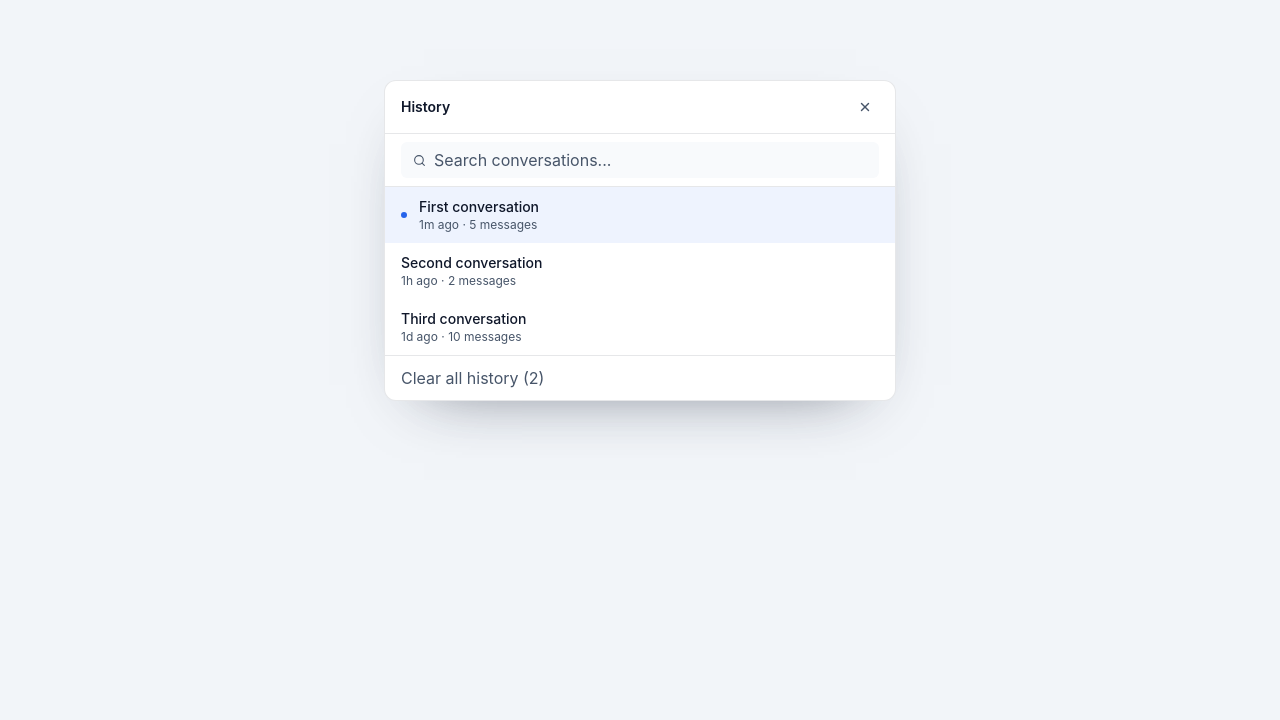
ConversationHistoryModal › shows empty state when search has no matches
This screenshot has width=1280, height=720.
Expected: the text "First conversation" is shown, [419,198,539,215]
Type "xyz-no-match" into the field with placeholder "Search conversations..." at {"x": 650, "y": 160}, box [434,148,867,172]
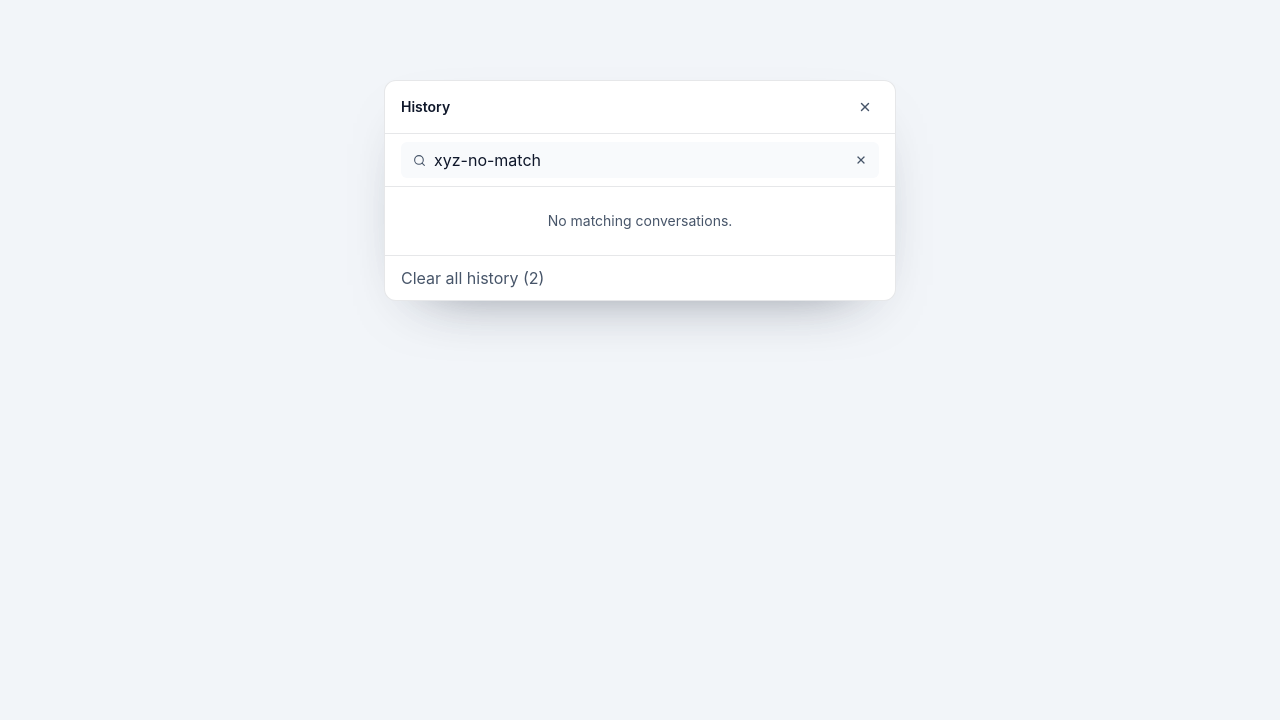
Expected: the text "No matching conversations." is shown, [548,212,732,229]
